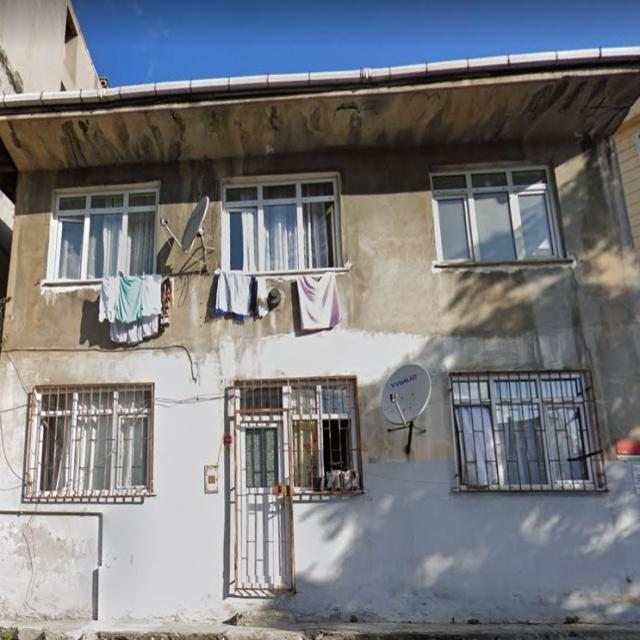Building: (0, 47, 640, 635)
